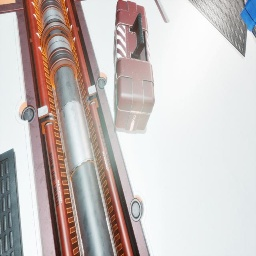FirstAidBox ,: (113, 0, 155, 131)
